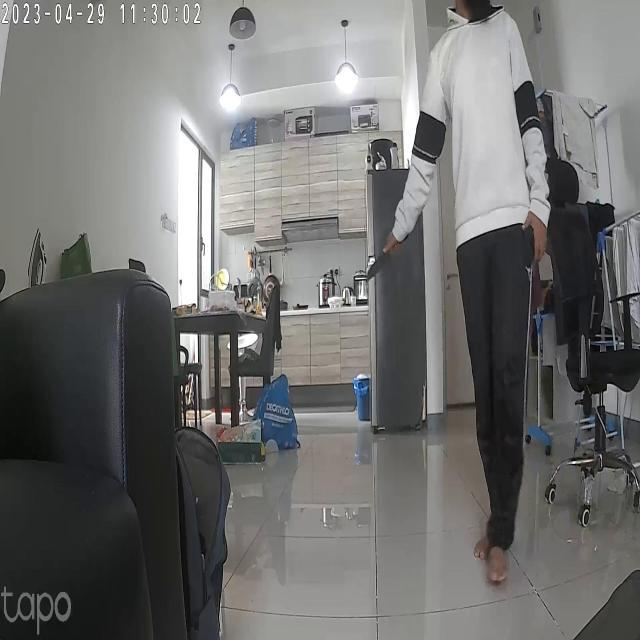Knife: (351, 241, 410, 286)
